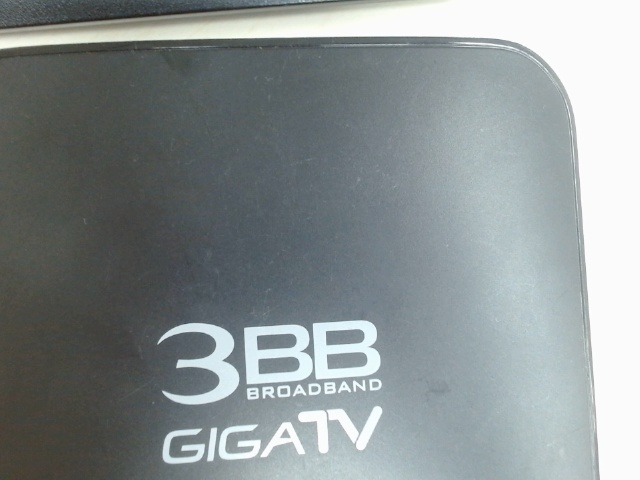AG_3BB: (119, 310, 414, 468)
